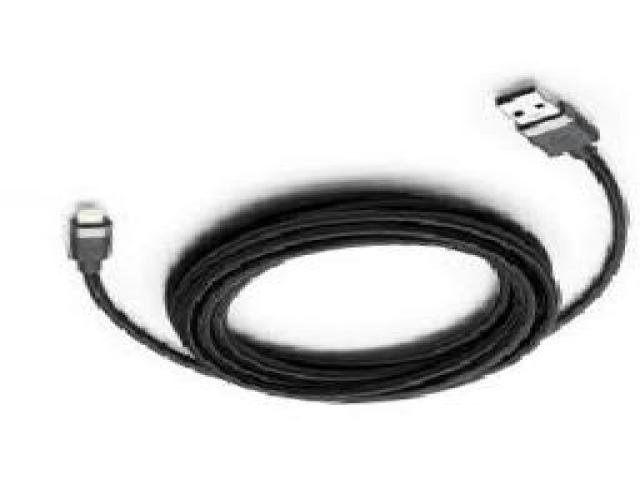wire: (71, 85, 628, 402)
